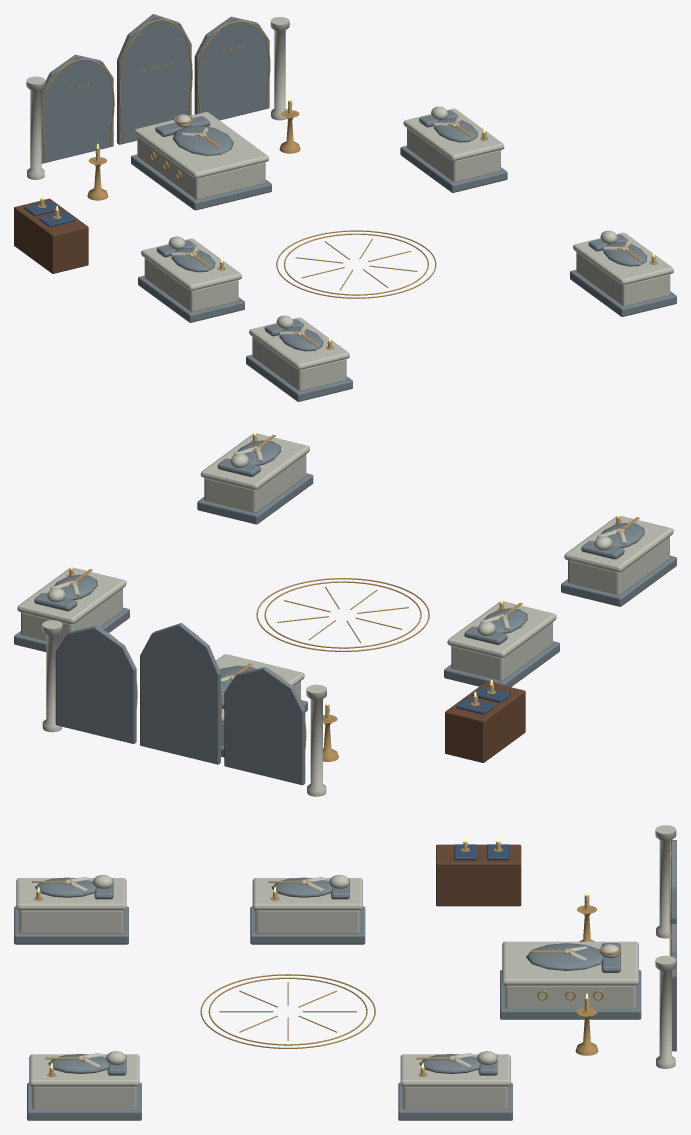
File: crypt.glb
3 renders of one model, top to bottom at view 1: azimuth 30°, elevation 25°; view 2: azimuth 150°, elevation 25°; view 3: azimuth 270°, elevation 25°, orthographic. The views are drawn at different scales.
Parts seen in each view (by area): view 1: Crafted assembly 002, Crafted assembly 004, Crafted assembly 000, Crafted assembly 005, Crafted assembly 003, Crafted assembly 010, Crafted assembly 001, Crafted assembly 011; view 2: Crafted assembly 002, Crafted assembly 000, Crafted assembly 004, Crafted assembly 005, Crafted assembly 010, Crafted assembly 003, Crafted assembly 001, Crafted assembly 011; view 3: Crafted assembly 004, Crafted assembly 005, Crafted assembly 000, Crafted assembly 002, Crafted assembly 010, Crafted assembly 003, Crafted assembly 001, Crafted assembly 011.
Part boxes in pixels (bbox=[...]): Crafted assembly 002: bbox=[117, 14, 676, 316]; Crafted assembly 004: bbox=[26, 76, 349, 390]; Crafted assembly 000: bbox=[41, 54, 352, 401]; Crafted assembly 005: bbox=[175, 17, 673, 305]; Crafted assembly 003: bbox=[119, 19, 657, 298]; Crafted assembly 010: bbox=[14, 198, 88, 273]; Crafted assembly 001: bbox=[38, 58, 344, 349]; Crafted assembly 011: bbox=[24, 200, 75, 227]; Crafted assembly 002: bbox=[14, 440, 313, 764]; Crafted assembly 000: bbox=[220, 523, 676, 785]; Crafted assembly 004: bbox=[216, 515, 673, 796]; Crafted assembly 005: bbox=[17, 433, 309, 732]; Crafted assembly 010: bbox=[445, 681, 525, 762]; Crafted assembly 003: bbox=[65, 434, 429, 722]; Crafted assembly 001: bbox=[225, 517, 639, 761]; Crafted assembly 011: bbox=[456, 686, 510, 714]; Crafted assembly 004: bbox=[16, 825, 676, 1008]; Crafted assembly 005: bbox=[29, 944, 676, 1109]; Crafted assembly 000: bbox=[14, 840, 676, 1019]; Crafted assembly 002: bbox=[27, 858, 676, 1120]; Crafted assembly 010: bbox=[436, 844, 521, 906]; Crafted assembly 003: bbox=[45, 860, 671, 1076]; Crafted assembly 001: bbox=[32, 840, 671, 1005]; Crafted assembly 011: bbox=[454, 844, 509, 860].
Size of what is drawn, in the model's own units: 16.88 by 4.74 by 20.19.
